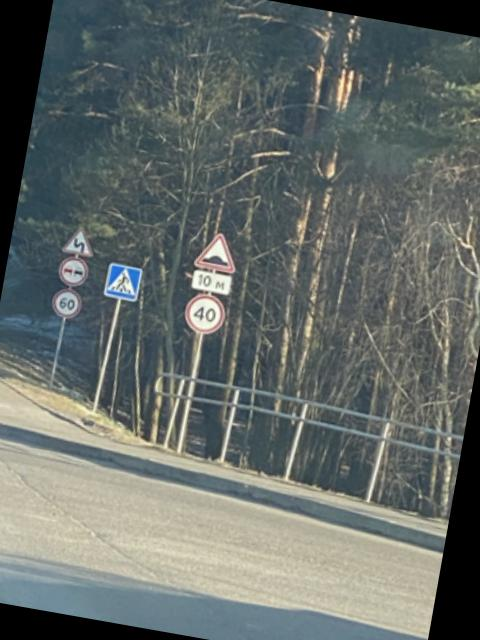crosswalk-sign: (103, 261, 144, 303)
